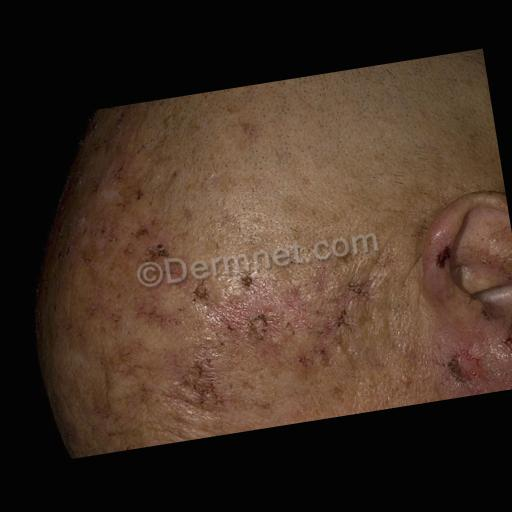Skin_Lesion: (121, 192, 188, 277), (440, 338, 488, 394), (180, 360, 226, 418), (226, 263, 272, 312), (132, 293, 178, 336), (74, 216, 116, 260), (320, 294, 357, 342), (290, 340, 330, 382), (423, 228, 454, 278), (237, 311, 277, 344), (87, 176, 123, 208), (495, 328, 512, 384), (342, 272, 367, 296), (163, 162, 183, 186), (126, 182, 146, 204), (160, 106, 178, 126)
